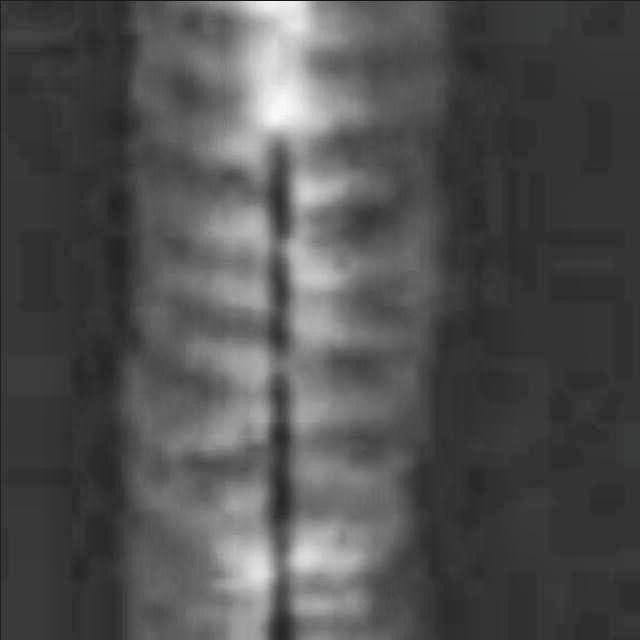LoP-LoF: (241, 118, 328, 638)
